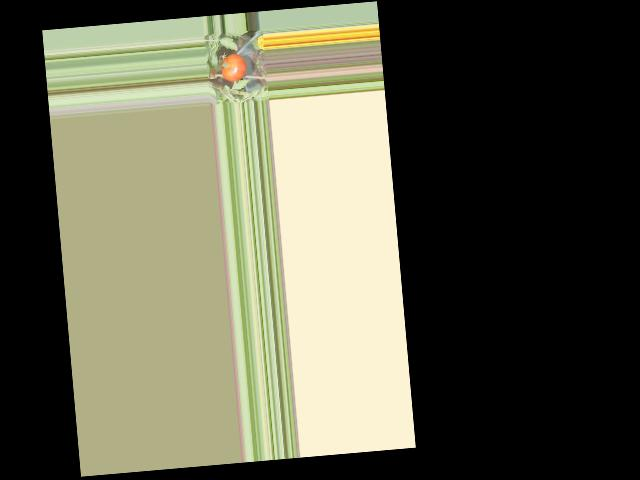tomato: (220, 52, 247, 83)
